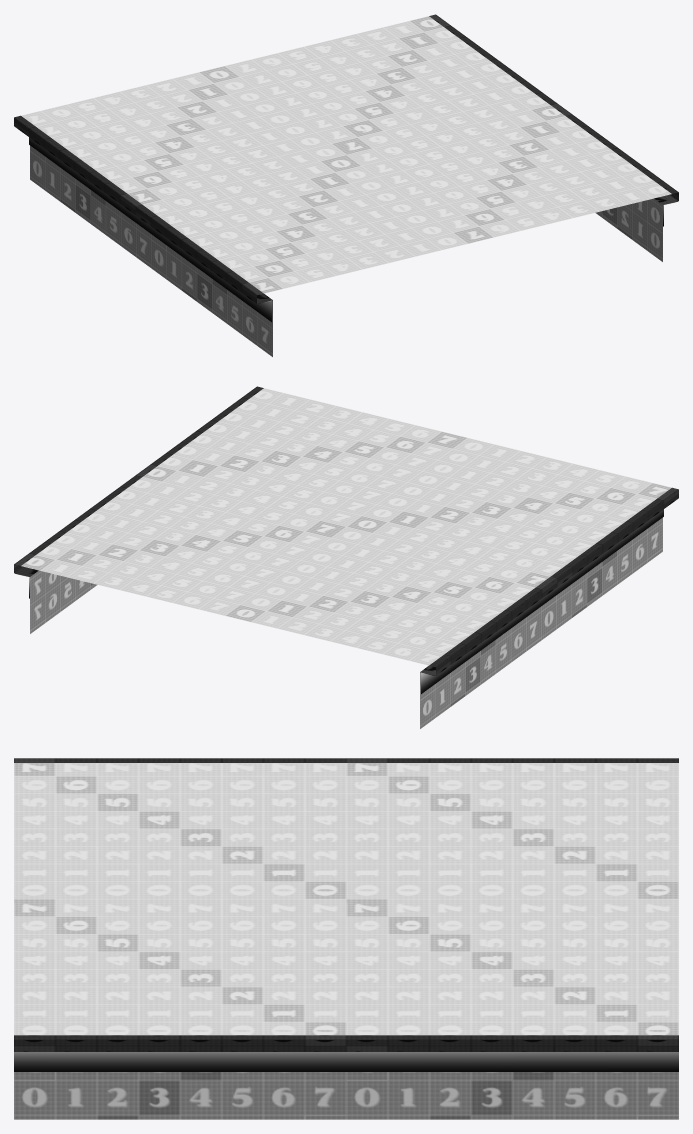
File: Podium02_3.FBX
The picture shows the model from 3 angles, top to bottom: view 1: azimuth 30°, elevation 25°; view 2: azimuth 150°, elevation 25°; view 3: azimuth 270°, elevation 25°; orthographic projection. The views are drawn at different scales.
Visible parts, largest first — view 1: Podium, Backlight; view 2: Podium, Backlight; view 3: Podium, Backlight.
Part boxes in pixels (x1,y1,x2,y2): Podium: (14,14,678,356); Backlight: (29,137,677,321); Podium: (14,386,678,728); Backlight: (15,509,663,693); Podium: (14,758,678,1119); Backlight: (14,1052,678,1071).
Bounding box in the file's own units: 501 × 75 × 500.
